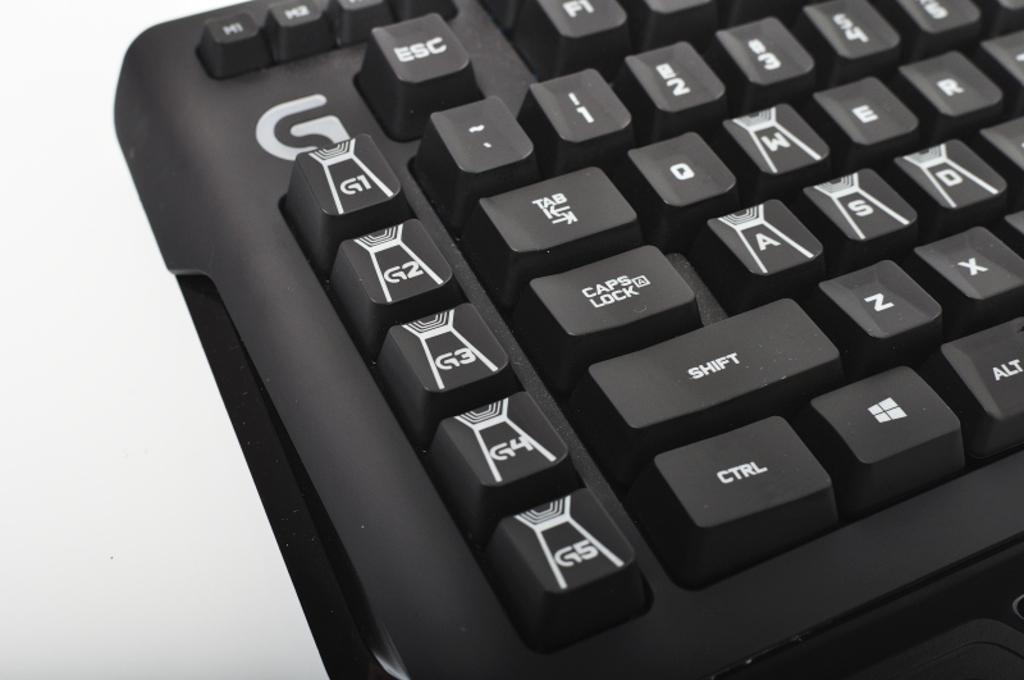Computer-keyboard: (100, 0, 1021, 680)
